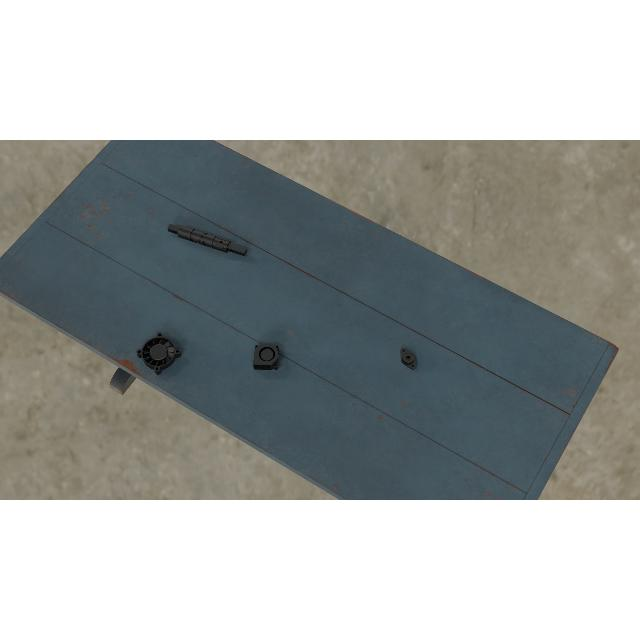Pieza1: (165, 219, 248, 261)
Pieza2: (396, 344, 420, 372)
Pieza3: (252, 342, 280, 370)
Pieza4: (135, 331, 183, 377)
